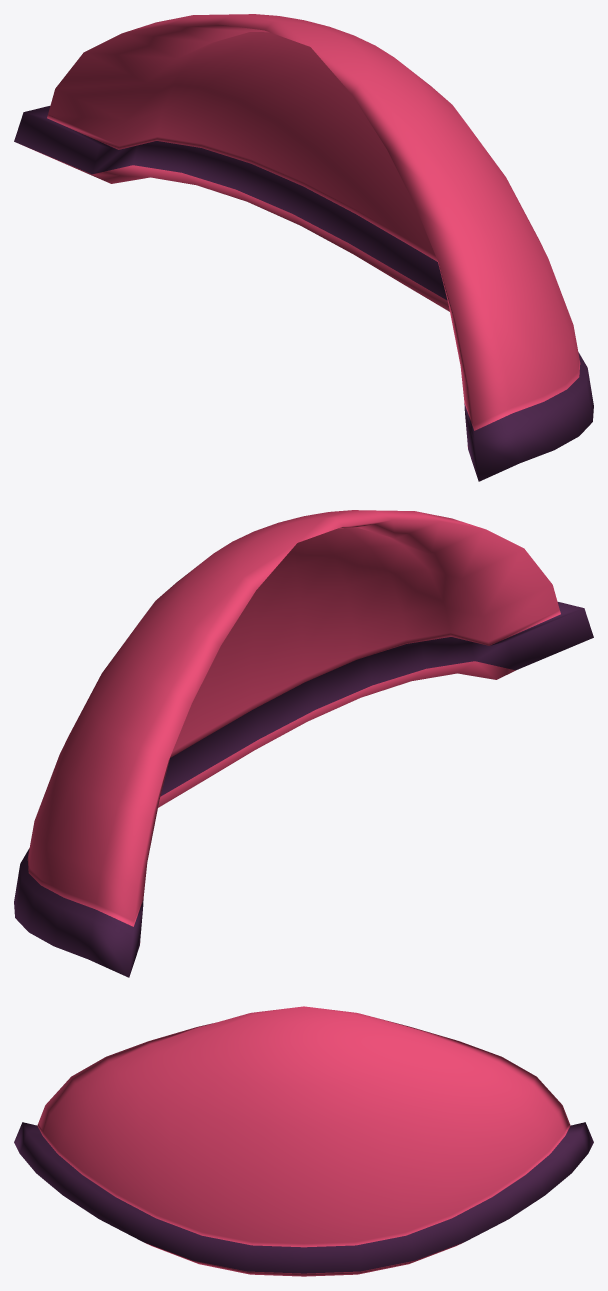
File: fogoso (1).fbx
The picture shows the model from 3 angles, top to bottom: view 1: azimuth 30°, elevation 25°; view 2: azimuth 150°, elevation 25°; view 3: azimuth 270°, elevation 25°; orthographic projection. The views are drawn at different scales.
Parts seen in each view (by area): view 1: Sphere.010; view 2: Sphere.010; view 3: Sphere.010.
Boxes of the visible parts, x1=… form: Sphere.010: x1=14, y1=14, x2=593, y2=481; Sphere.010: x1=14, y1=510, x2=593, y2=977; Sphere.010: x1=14, y1=1006, x2=593, y2=1276.
Size of the model in its own units: 94 by 111 by 279.
